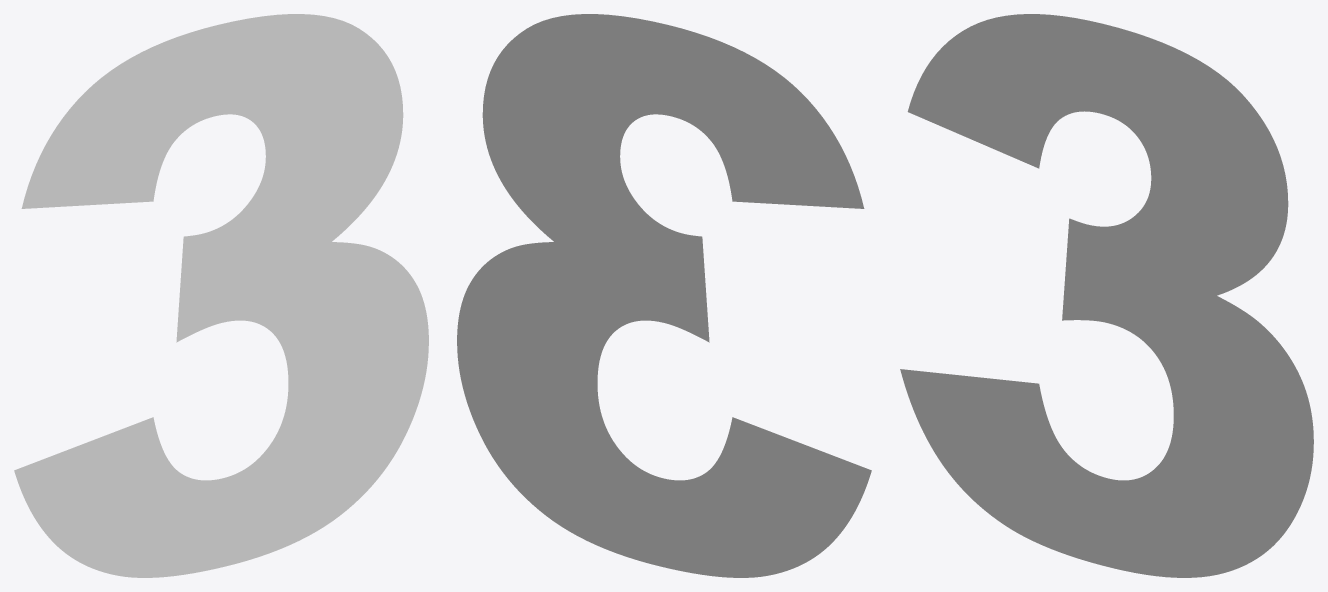
3 views of the same model, side by side, from view 1: azimuth 30°, elevation 25°; view 2: azimuth 150°, elevation 25°; view 3: azimuth 330°, elevation 25° (orthographic).
Visible parts, largest first — view 1: テキスト; view 2: テキスト; view 3: テキスト.
Part boxes in pixels (x1,y1,x2,y2): テキスト: [14, 14, 428, 577]; テキスト: [457, 14, 871, 577]; テキスト: [900, 14, 1313, 577].
Size of the model in its own units: 1.28 by 1.6 by 0.
1 material, 1 textured.
